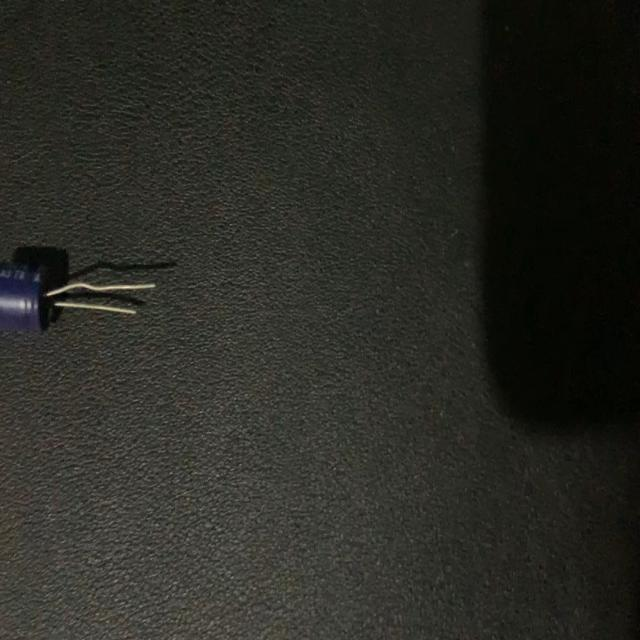capacitor: (0, 260, 157, 339)
